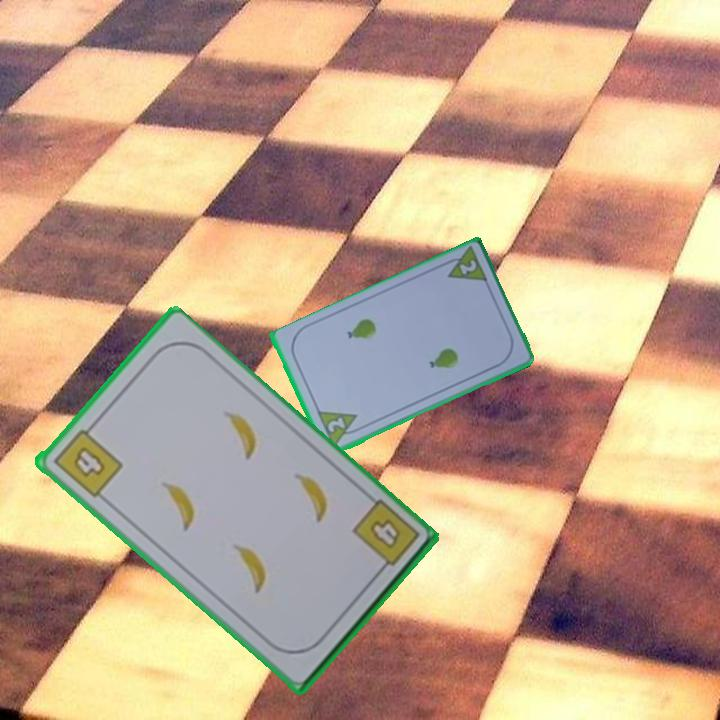2p: (438, 244, 491, 286), (314, 408, 365, 451)
4b: (49, 420, 125, 501), (365, 515, 403, 553)
